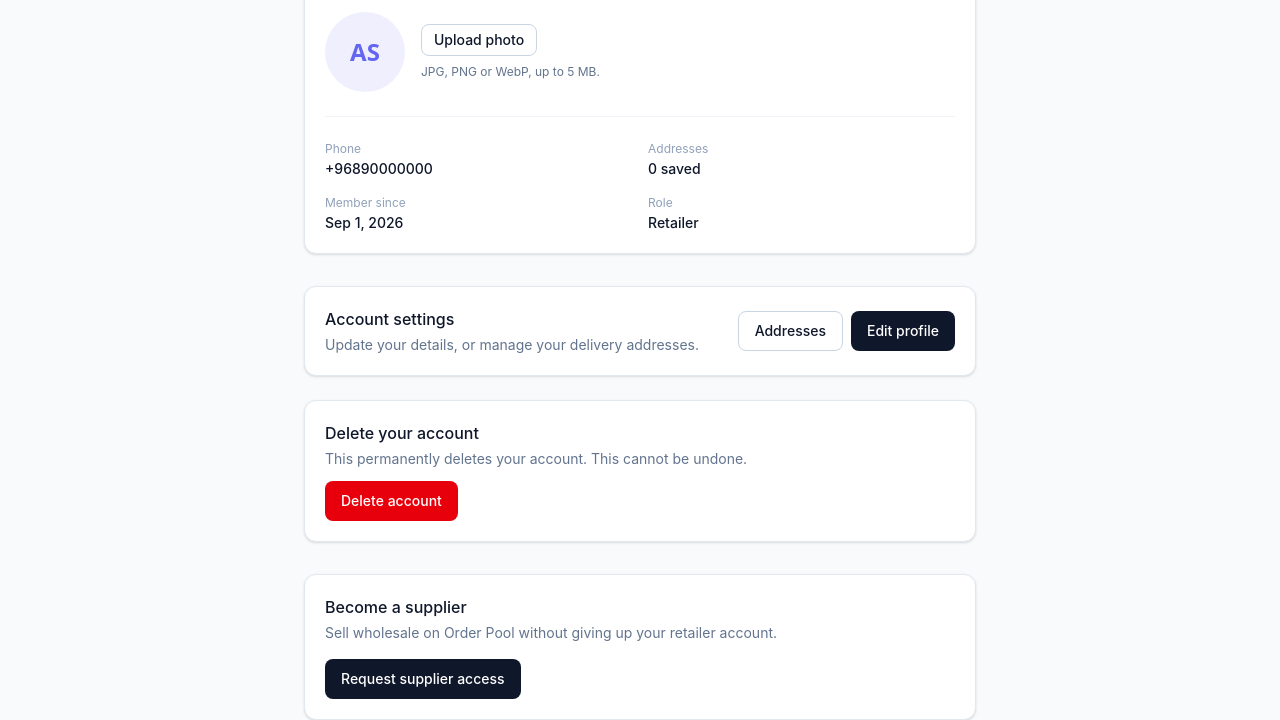
it: ProfilePage (retailer) — filing a supplier request › keeps the form open and shows the backend's reason when submitting fails
(page scrolled)
Click the button "Request supplier access" at (423, 679), box [325,659,521,699]
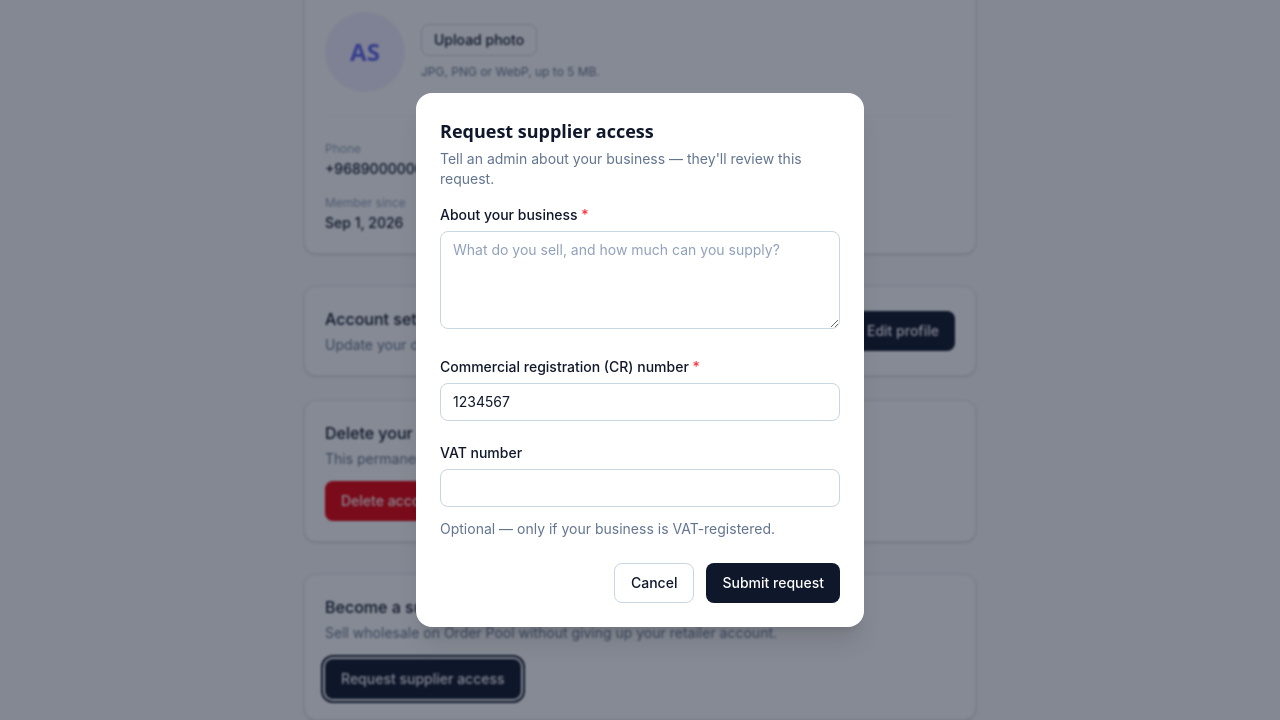
Type "Spice trader" into the text box labelled "About your business *" at (640, 280), box [440,231,840,329]
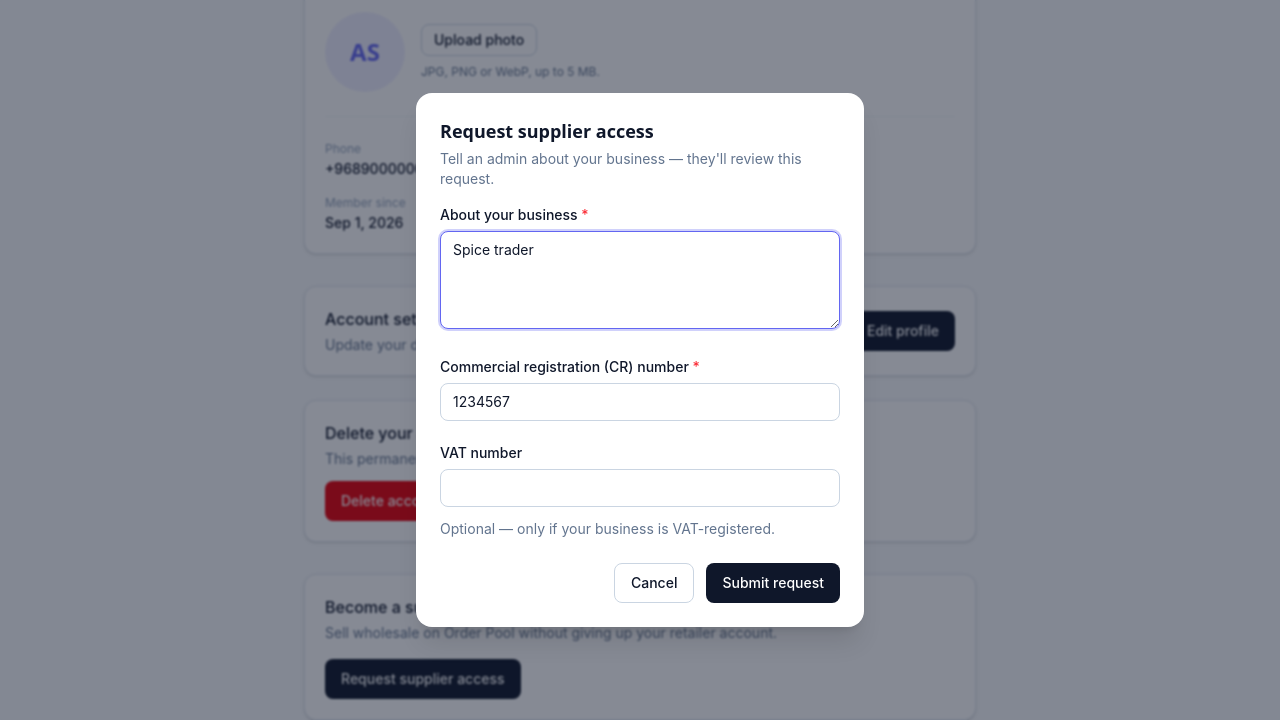
Click the button "Submit request" at (773, 583), box [706,563,840,603]
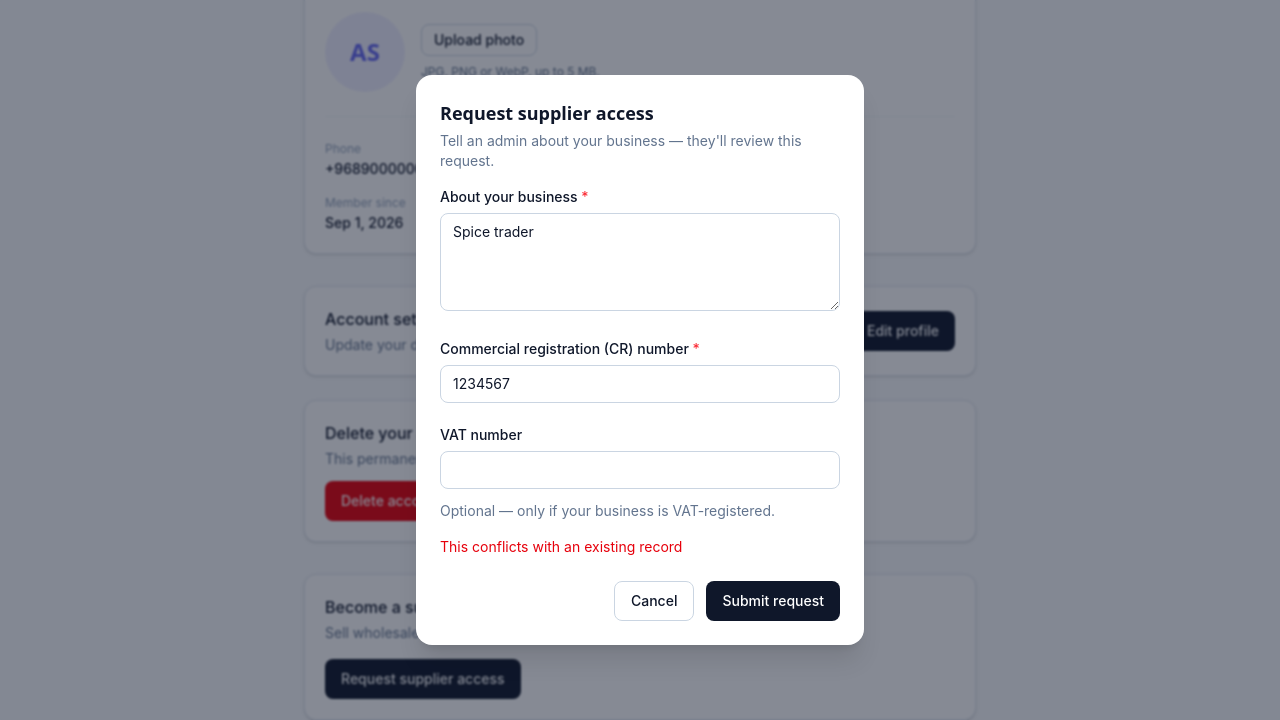
Expected: the dialog is shown, [416,75,864,645]
Expected: the text "This conflicts with an existing record" is shown, [440,538,682,555]
